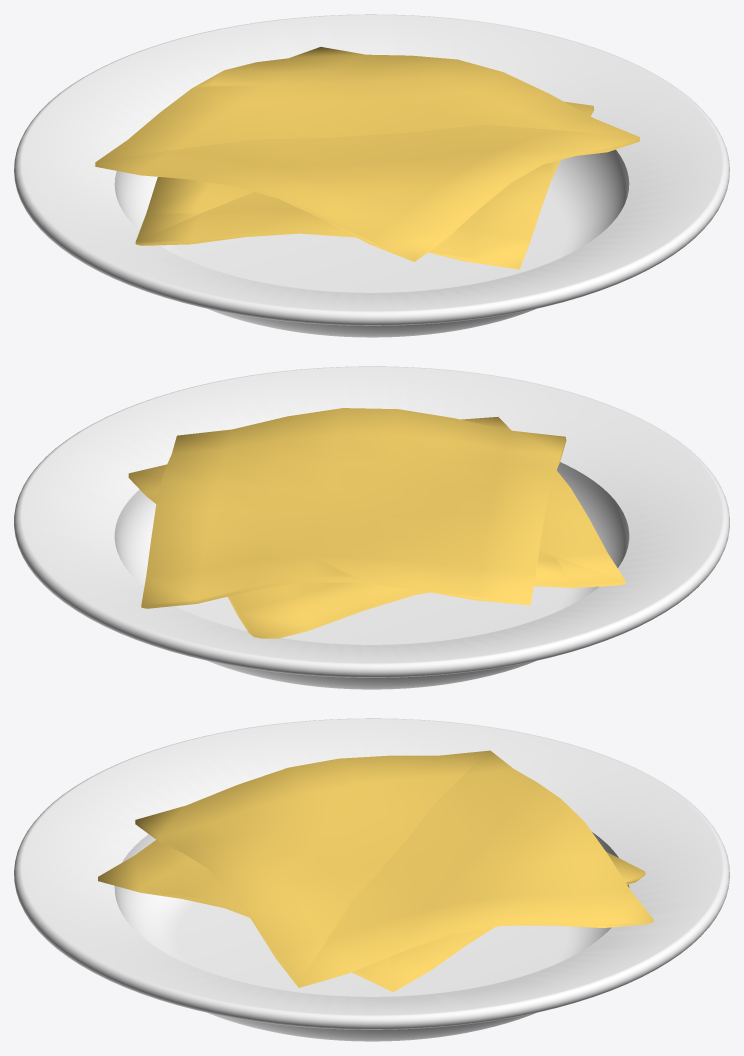
The model's file is cheese.fbx.
3 views of the same model, one above another, from view 1: azimuth 30°, elevation 25°; view 2: azimuth 150°, elevation 25°; view 3: azimuth 270°, elevation 25° (orthographic).
Parts seen in each view (by area): view 1: dish1, Hamburger1; view 2: dish1, Hamburger1; view 3: dish1, Hamburger1.
Boxes of the visible parts, x1,y1,x2,y2 form: dish1: (14, 14, 729, 337); Hamburger1: (95, 47, 639, 269); dish1: (14, 366, 729, 689); Hamburger1: (128, 408, 625, 638); dish1: (14, 718, 729, 1041); Hamburger1: (98, 750, 653, 992).
Size of the model in its own units: 5.37 by 1.02 by 5.37.
